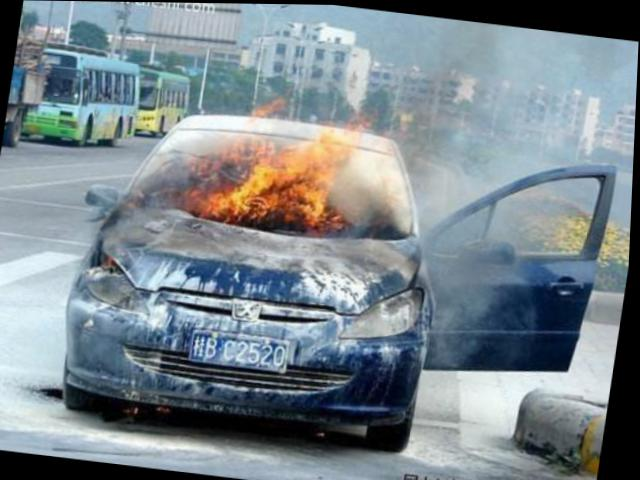fire: (153, 90, 396, 249)
